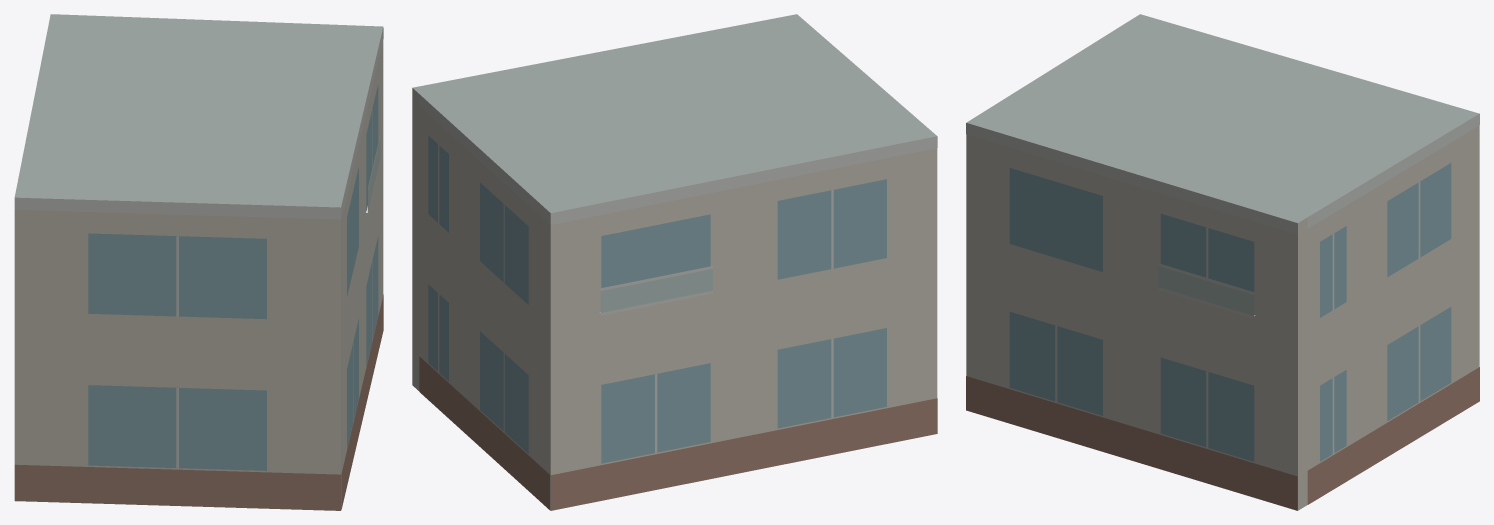
File: survey-upis-32570087.glb
3 views of the same model, side by side, from view 1: azimuth 30°, elevation 25°; view 2: azimuth 150°, elevation 25°; view 3: azimuth 270°, elevation 25° (orthographic). The views are drawn at different scales.
Visible parts, largest first — view 1: survey-upis-32570087.tmp; view 2: survey-upis-32570087.tmp; view 3: survey-upis-32570087.tmp.
Boxes of the visible parts, box(x1,y1,x2,y2) form: survey-upis-32570087.tmp: box(14, 14, 383, 510); survey-upis-32570087.tmp: box(412, 14, 937, 510); survey-upis-32570087.tmp: box(966, 14, 1479, 510).
Size of the model in its own units: 9.52 by 6.1 by 9.88.
